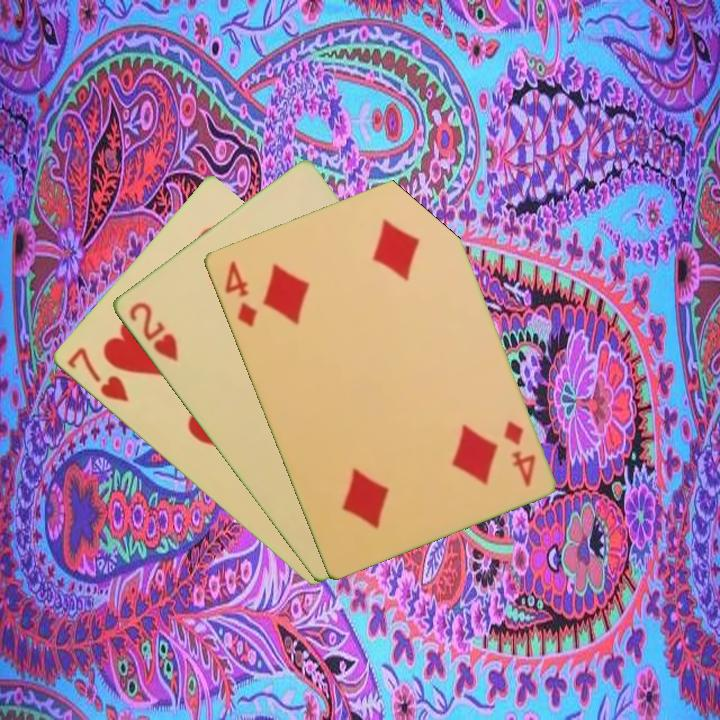2h: (124, 298, 181, 365)
4d: (220, 256, 261, 330), (499, 417, 538, 490)
7h: (62, 343, 131, 405)
